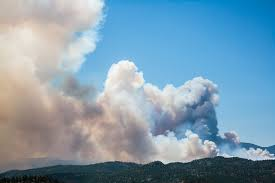smoke: (1, 1, 100, 157)
